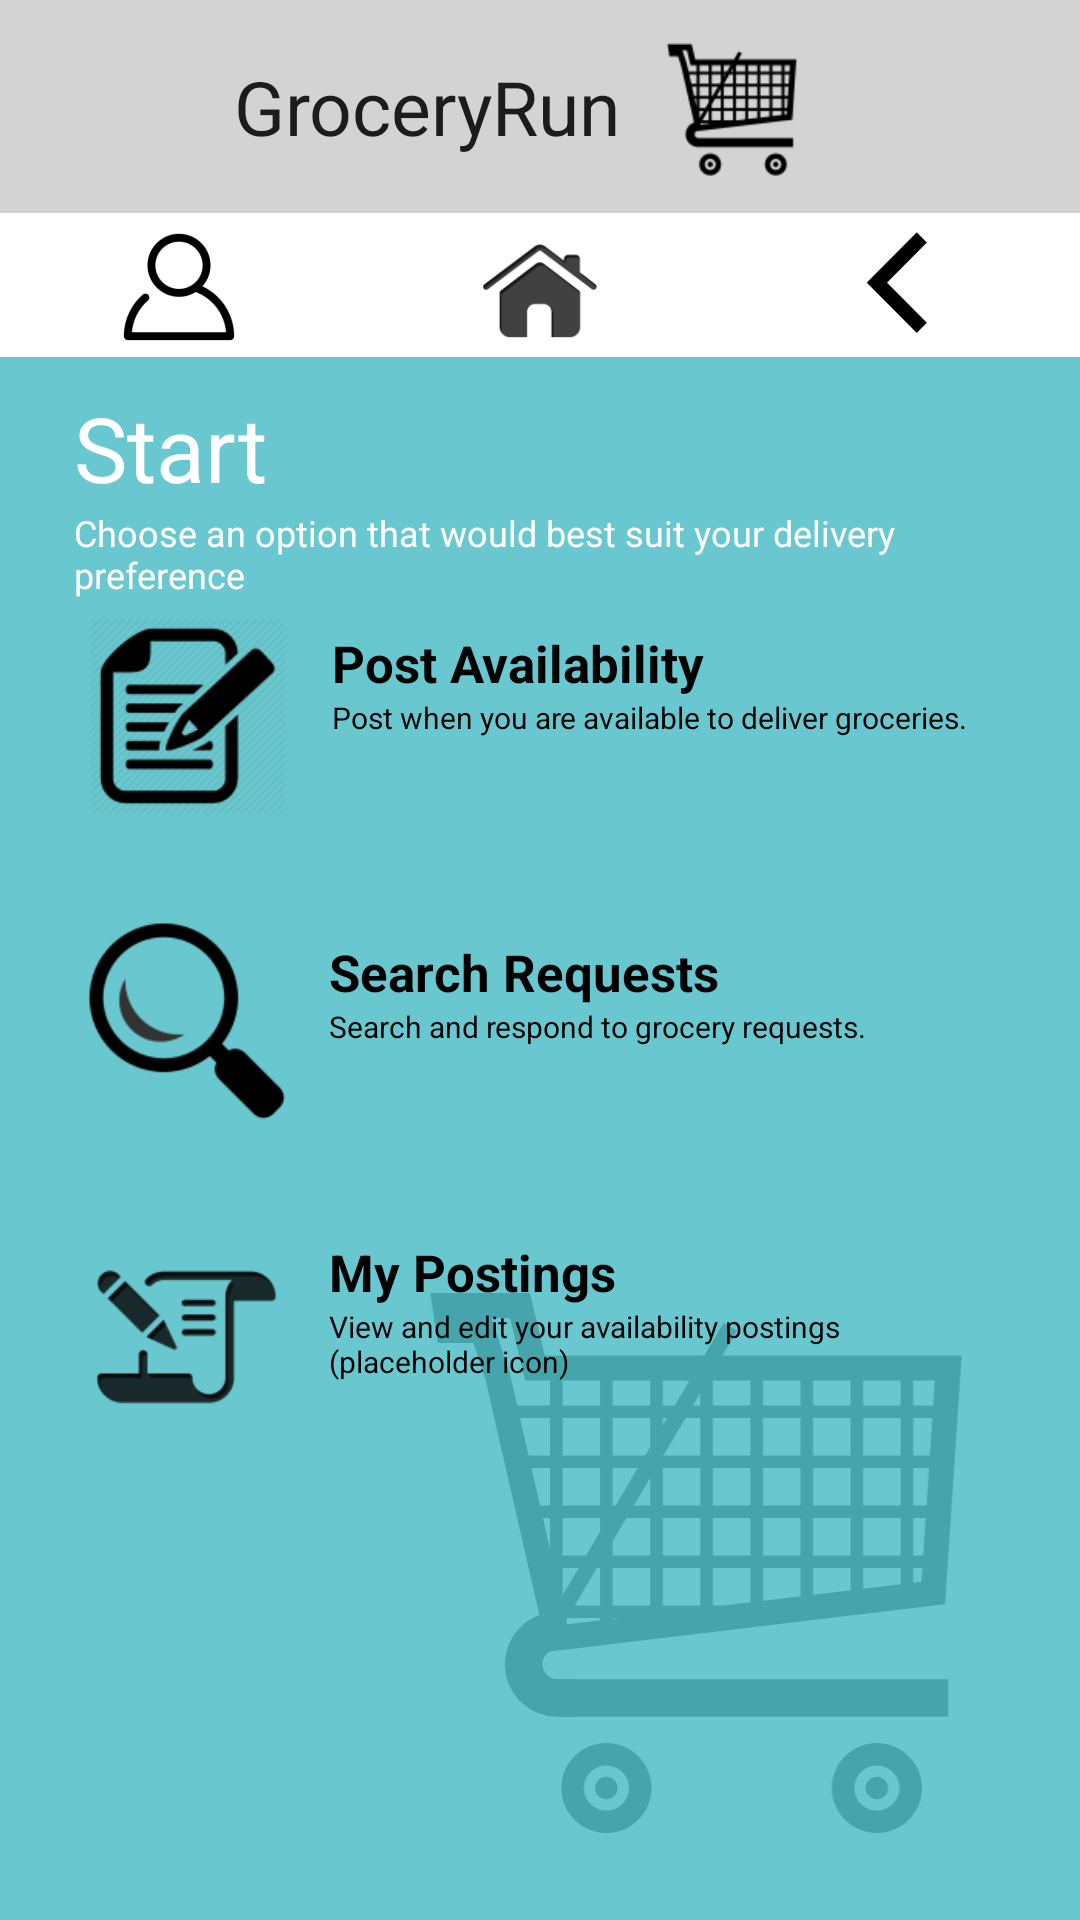

Locate icon controls on the screen. Image size 1080px x 1920px, boxes as box(x1, y1, x2, y2).
cartb: box(667, 43, 797, 176)
home: box(483, 244, 597, 338)
